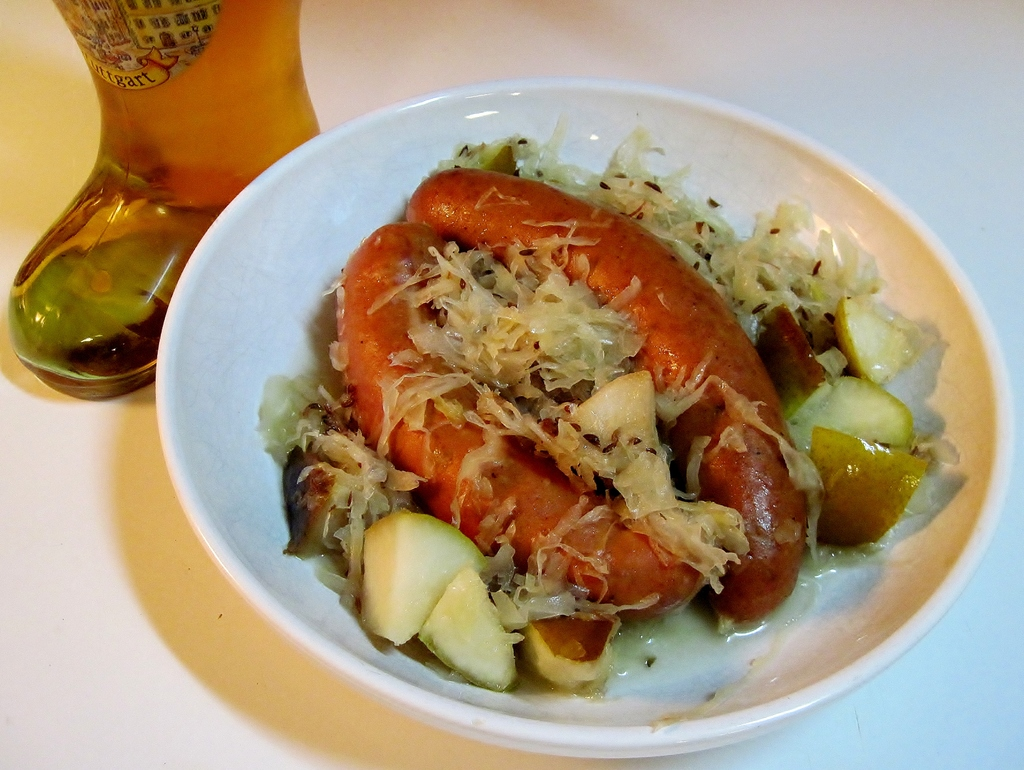salad: (239, 100, 920, 744)
